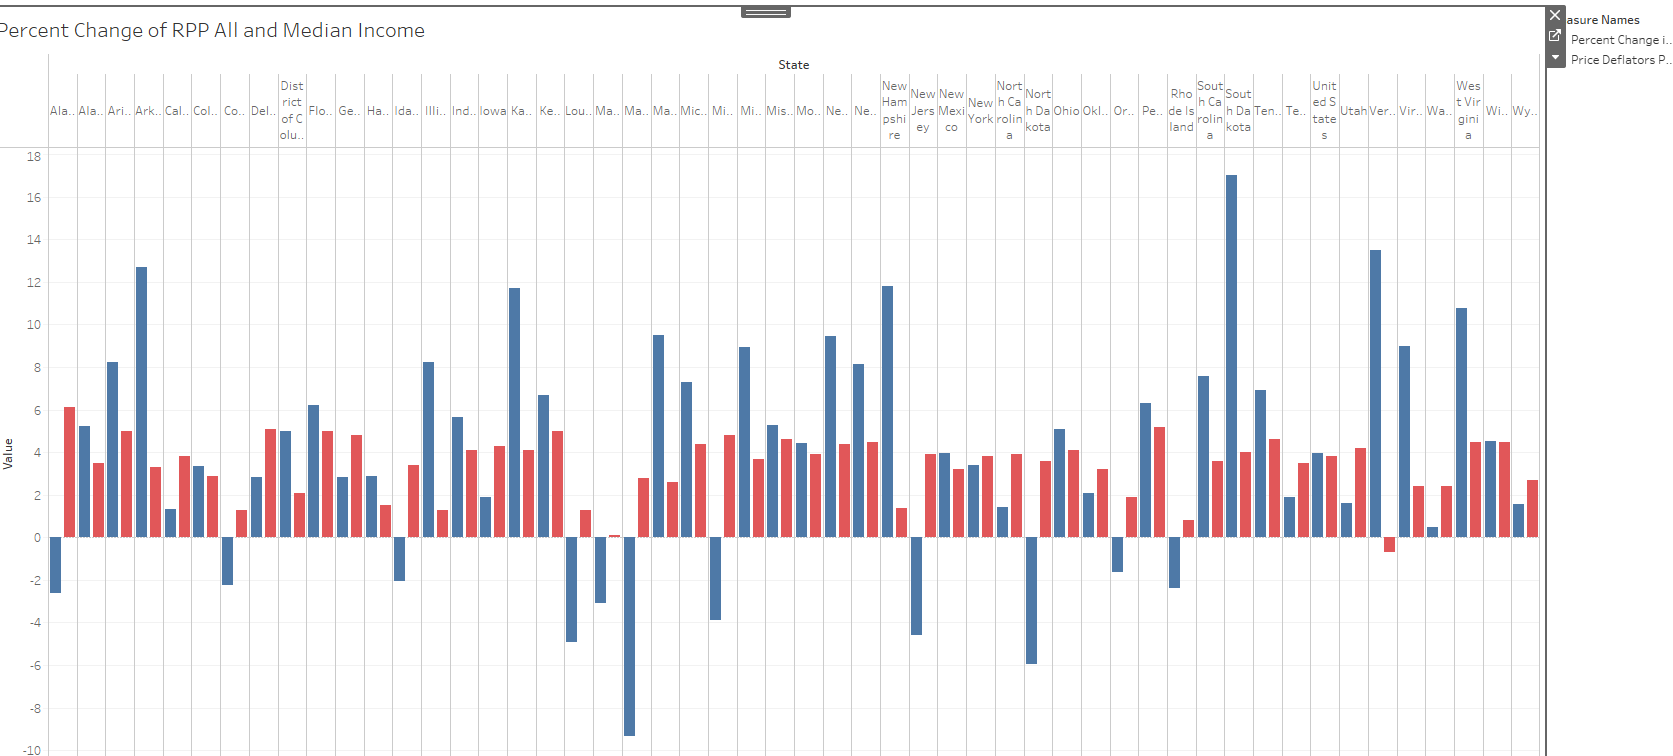

This screenshot's page, from the dashboard's own definition file:
{"tool":"tableau","page":{"name":"Percent Change of Income and RPP","canvas":[1000,1000],"units":"permille","ordinal":1},"visuals":[{"type":"worksheet","title":"Percent Change of RPP All and Median Income","mark":"Automatic","cols":["State"],"box":[4.7,9.3,897,981.3]},{"type":"legend","title":"Percent Change of RPP All and Median Income","param":"[federated.0dzr7111ldopm517e8l340tqylag].[:Measure Names]","box":[901.7,9.3,93.6,77.1]}]}

Visuals, with their boxes on the dashboard's canvas, which has no fixed pixel size, in thousandths of its width and height (x1, y1, x2, y2). These are canvas units, not pixel positions in the 1673x756 screenshot, which may show the page scaled, cropped or inside an application window:
"Percent Change of RPP All and Median Income" worksheet: (5,9,902,991)
"Percent Change of RPP All and Median Income" legend: (902,9,995,86)
